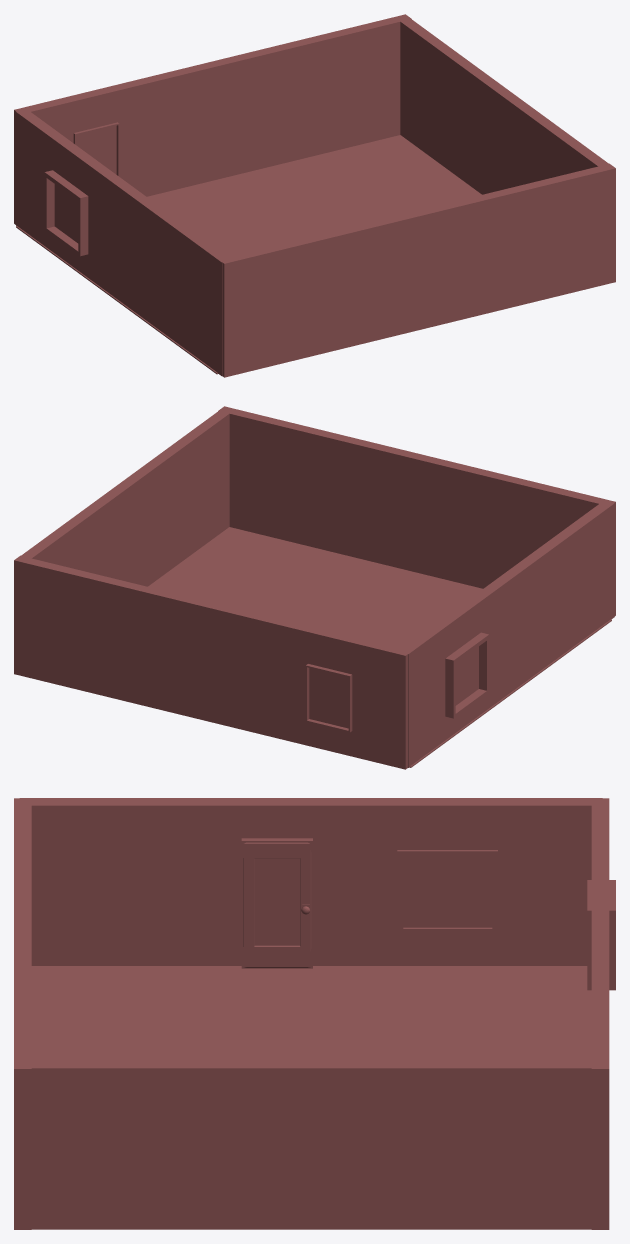
File: doorScene.dae
The picture shows the model from 3 angles, top to bottom: view 1: azimuth 30°, elevation 25°; view 2: azimuth 150°, elevation 25°; view 3: azimuth 270°, elevation 25°; orthographic projection. The views are drawn at different scales.
Visible parts, largest first — view 1: doorscene; view 2: doorscene; view 3: doorscene.
Part boxes in pixels (left/top/right/bottom): doorscene: left=14, top=14, right=615, bottom=377; doorscene: left=14, top=406, right=615, bottom=769; doorscene: left=14, top=798, right=615, bottom=1229.
Bounding box in the file's own units: 6.47 × 5.96 × 1.77.
